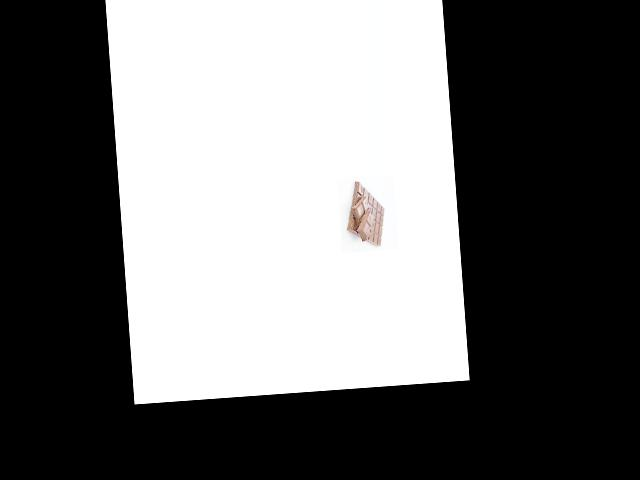chocolate: (340, 178, 390, 249)
